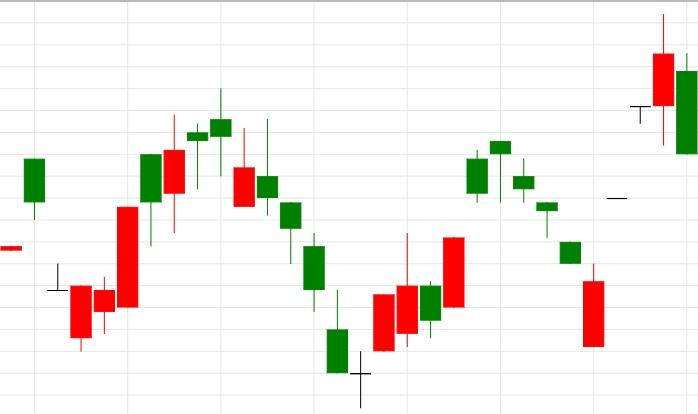three_black_crows_fall: (350, 141, 559, 408)
